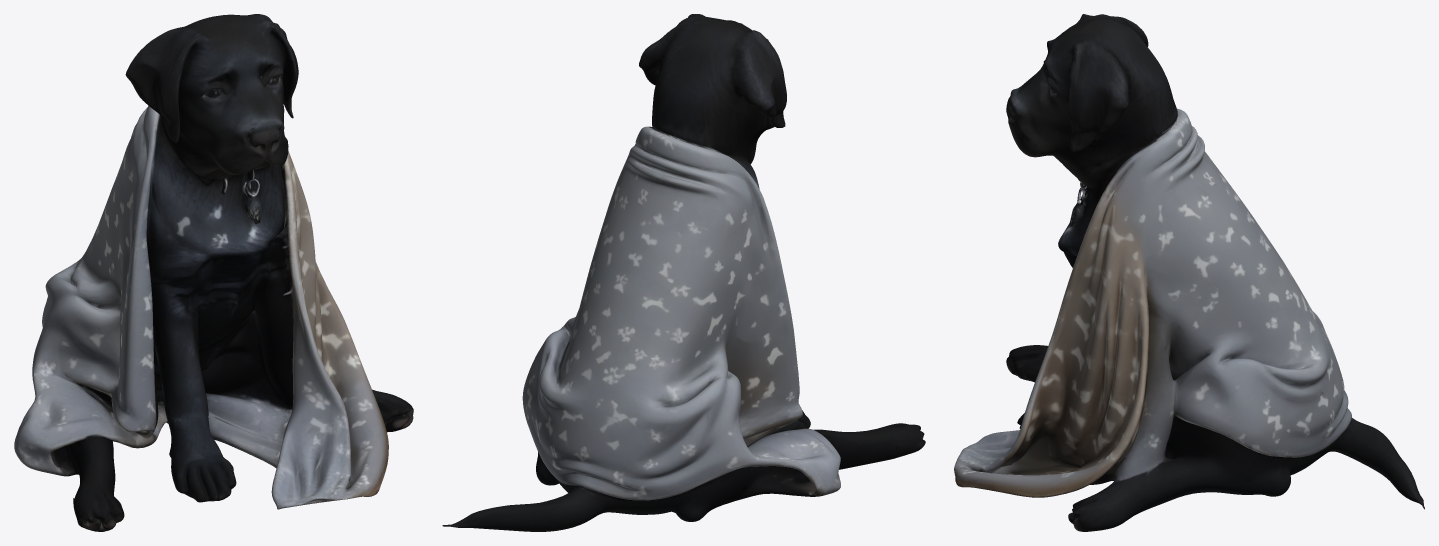
Rendered from spot-blanket.glb.
3 renders of one model, left to right at view 1: azimuth 30°, elevation 25°; view 2: azimuth 150°, elevation 25°; view 3: azimuth 270°, elevation 25°, orthographic. The views are drawn at different scales.
Parts seen in each view (by area): view 1: SpotScan; view 2: SpotScan; view 3: SpotScan.
Part boxes in pixels (left/top/right/bottom): SpotScan: left=14, top=14, right=413, bottom=531; SpotScan: left=442, top=14, right=925, bottom=531; SpotScan: left=954, top=14, right=1424, bottom=531.
Size of the model in its own units: 0.6708 by 0.7827 by 0.7841.
Materials: 1 (1 with a texture image).
